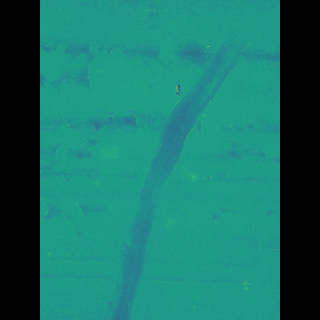Loch: (111, 12, 237, 320)
